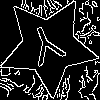Y: (23, 21, 72, 76)
